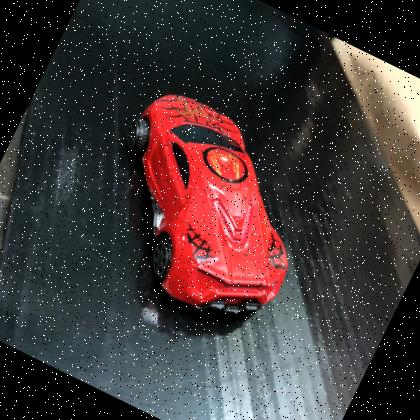Car: (127, 95, 287, 326)
